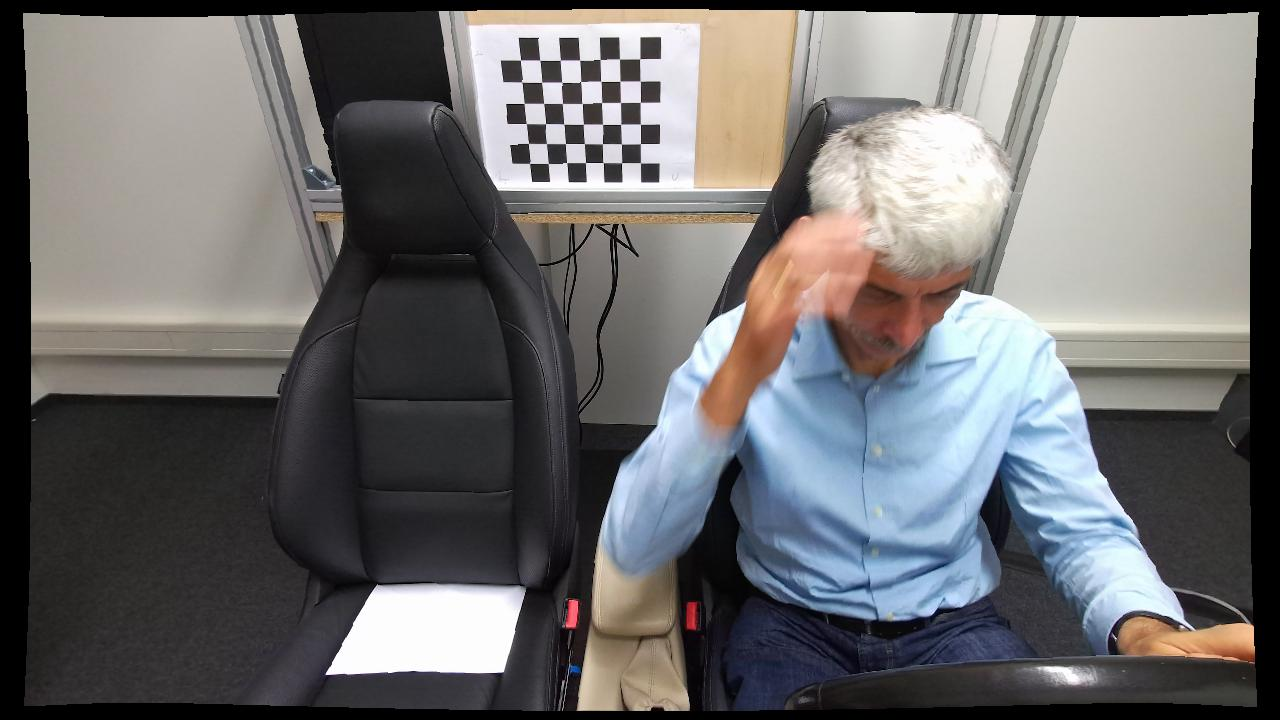Distracted: (601, 104, 1173, 709)
